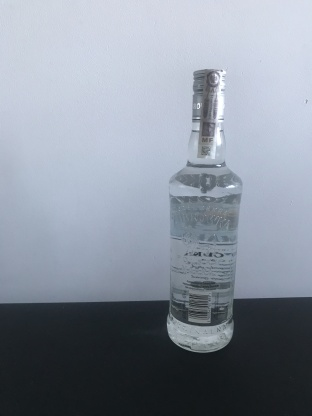nakretka: (189, 64, 229, 126)
